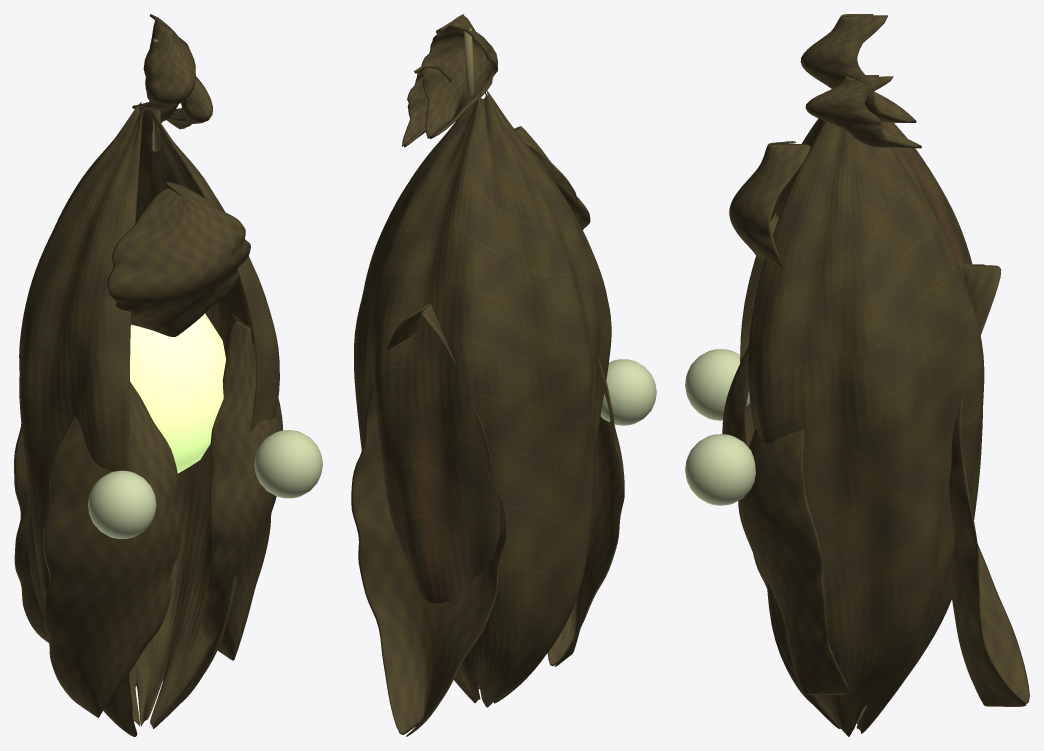
The model's file is sprite_guardian_v10.glb.
The picture shows the model from 3 angles, left to right: view 1: azimuth 30°, elevation 25°; view 2: azimuth 150°, elevation 25°; view 3: azimuth 270°, elevation 25°; orthographic projection. The views are drawn at different scales.
Parts seen in each view (by area): view 1: Leaf_Envelope, Leaf_Cape_Left, Leaf_Cape_Right, Leaf_Hood_Brim, Sprite_Core, Sprout_Tip, Orb_Hand_R, Orb_Hand_L, Leaf_Cape_Back, Sprout_Side; view 2: Leaf_Envelope, Leaf_Cape_Back, Leaf_Cape_Left, Sprout_Tip, Orb_Hand_L, Sprout_Side, Leaf_Hood_Brim, Sprout_Stem; view 3: Leaf_Envelope, Leaf_Cape_Right, Leaf_Cape_Back, Leaf_Hood_Brim, Sprout_Tip, Orb_Hand_R, Sprout_Side, Orb_Hand_L, Leaf_Cape_Left.
Part boxes in pixels (bbox=[...]): Leaf_Envelope: bbox=[19, 102, 279, 736]; Leaf_Cape_Left: bbox=[43, 381, 182, 717]; Leaf_Cape_Right: bbox=[202, 314, 282, 660]; Leaf_Hood_Brim: bbox=[107, 182, 250, 336]; Sprite_Core: bbox=[130, 313, 225, 473]; Sprout_Tip: bbox=[132, 14, 195, 122]; Orb_Hand_R: bbox=[254, 430, 322, 498]; Orb_Hand_L: bbox=[88, 470, 156, 538]; Leaf_Cape_Back: bbox=[14, 424, 49, 642]; Sprout_Side: bbox=[166, 76, 212, 129]; Leaf_Envelope: bbox=[354, 89, 611, 707]; Leaf_Cape_Back: bbox=[351, 304, 506, 736]; Leaf_Cape_Left: bbox=[547, 357, 624, 666]; Sprout_Tip: bbox=[421, 14, 497, 139]; Orb_Hand_L: bbox=[600, 359, 656, 425]; Sprout_Side: bbox=[402, 57, 451, 147]; Leaf_Hood_Brim: bbox=[514, 126, 590, 229]; Sprout_Stem: bbox=[464, 27, 474, 97]; Leaf_Envelope: bbox=[740, 118, 984, 736]; Leaf_Cape_Right: bbox=[738, 429, 849, 694]; Leaf_Cape_Back: bbox=[949, 264, 1029, 706]; Leaf_Hood_Brim: bbox=[729, 141, 810, 267]; Sprout_Tip: bbox=[800, 14, 916, 122]; Orb_Hand_R: bbox=[685, 434, 755, 505]; Sprout_Side: bbox=[805, 75, 921, 148]; Orb_Hand_L: bbox=[685, 349, 750, 420]; Leaf_Cape_Left: bbox=[722, 346, 767, 588].
Size of the model in its own units: 0.8208 by 2.25 by 0.9607.
4 materials, 1 textured.
